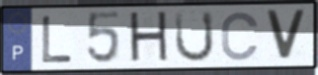5: (85, 10, 122, 67)
C: (219, 10, 261, 62)
H: (127, 9, 172, 66)
L: (40, 14, 75, 65)
U: (173, 10, 216, 64)
V: (263, 9, 309, 63)
